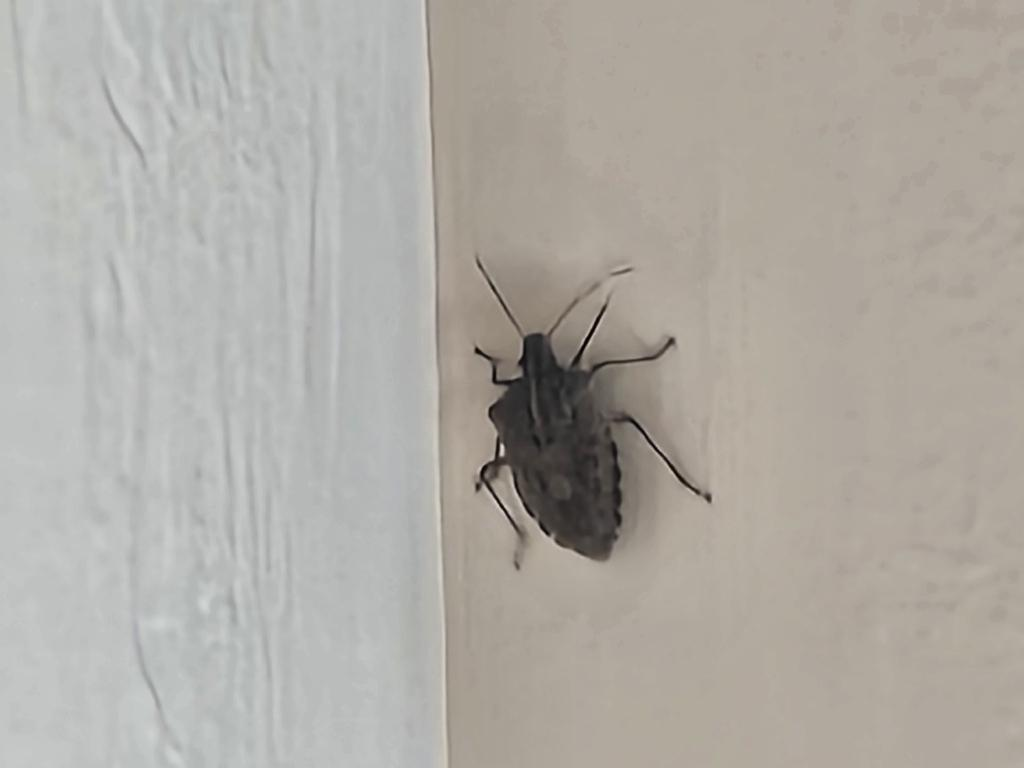stink_bugs: (430, 224, 751, 604)
